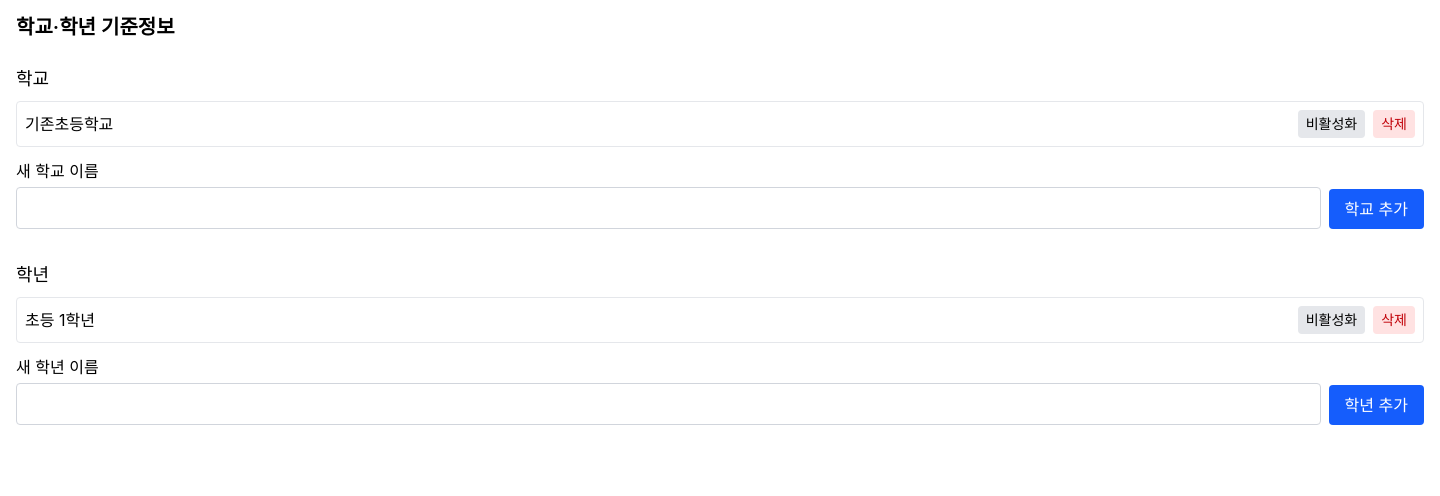
Test: AcademicsSettingsPage › loads schools and grade levels, and creates a new school
The image size is (1440, 496).
Expected: the text "기존초등학교" is shown, left=25, top=112, right=113, bottom=136
Expected: the text "초등 1학년" is shown, left=25, top=308, right=95, bottom=332
In the field labelled "새 학교 이름": (668, 208) left=16, top=187, right=1321, bottom=229, type "새학교"
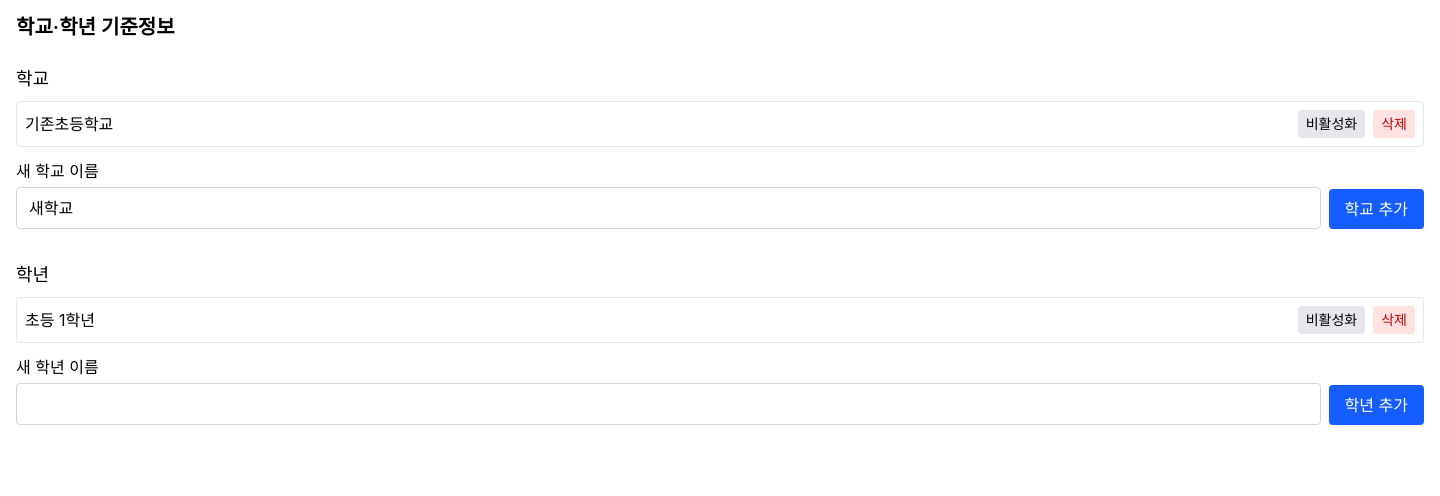
Click the button "학교 추가": (1376, 209) left=1329, top=189, right=1424, bottom=229
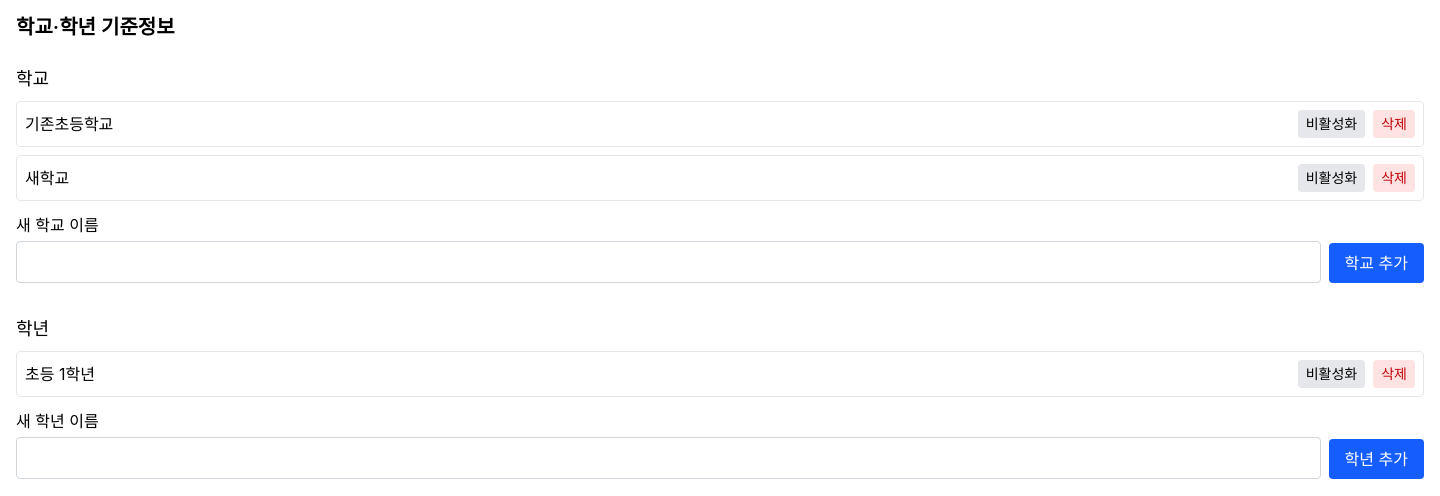
Result: the text "새학교" is shown at left=25, top=166, right=69, bottom=190
